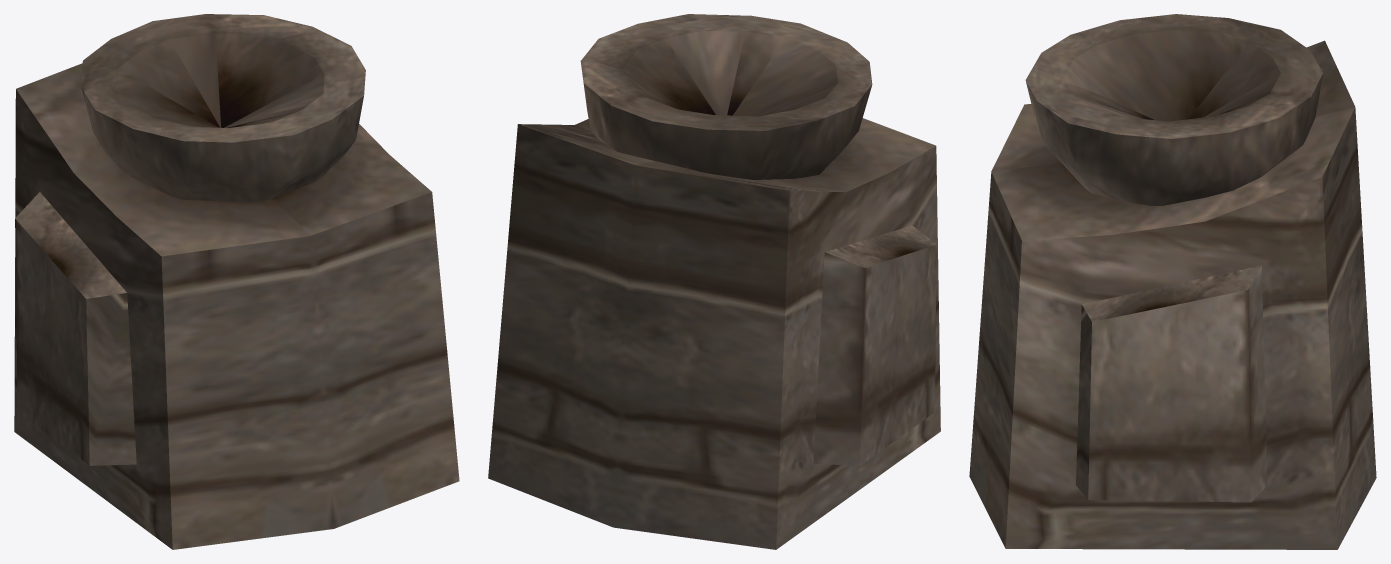
Rendered from blsd_huopei_01.FBX.
The picture shows the model from 3 angles, left to right: view 1: azimuth 30°, elevation 25°; view 2: azimuth 150°, elevation 25°; view 3: azimuth 270°, elevation 25°; orthographic projection. The views are drawn at different scales.
Parts seen in each view (by area): view 1: blsd_huopei_01; view 2: blsd_huopei_01; view 3: blsd_huopei_01.
Part boxes in pixels (bbox=[...]): blsd_huopei_01: bbox=[14, 14, 459, 549]; blsd_huopei_01: bbox=[488, 14, 940, 549]; blsd_huopei_01: bbox=[969, 14, 1376, 549].
Bounding box in the file's own units: 85.53 × 87.64 × 81.14.
